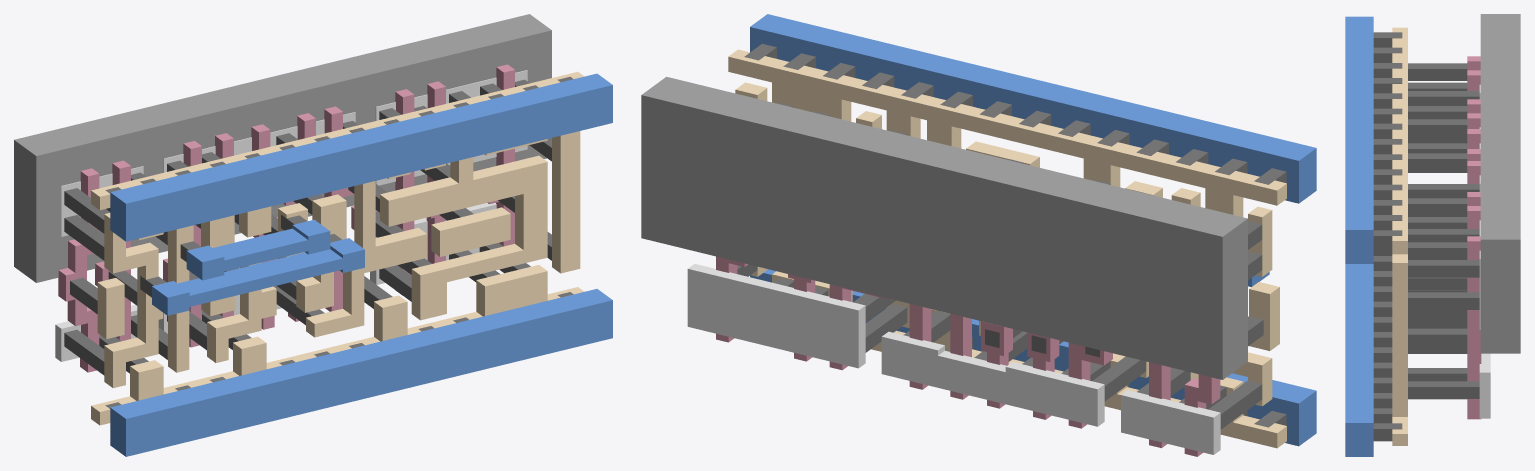
File: sky130_fd_sc_hd__dlrtn_1.gds.gltf
The picture shows the model from 3 angles, left to right: view 1: azimuth 30°, elevation 25°; view 2: azimuth 150°, elevation 25°; view 3: azimuth 270°, elevation 25°; orthographic projection. The views are drawn at different scales.
Parts seen in each view (by area): view 1: sky130_fd_sc_hd__dlrtn_1_met1, sky130_fd_sc_hd__dlrtn_1_li1, sky130_fd_sc_hd__dlrtn_1_nwell, sky130_fd_sc_hd__dlrtn_1_licon, sky130_fd_sc_hd__dlrtn_1_poly, sky130_fd_sc_hd__dlrtn_1_diff, sky130_fd_sc_hd__dlrtn_1_mcon; view 2: sky130_fd_sc_hd__dlrtn_1_nwell, sky130_fd_sc_hd__dlrtn_1_li1, sky130_fd_sc_hd__dlrtn_1_diff, sky130_fd_sc_hd__dlrtn_1_met1, sky130_fd_sc_hd__dlrtn_1_licon, sky130_fd_sc_hd__dlrtn_1_poly, sky130_fd_sc_hd__dlrtn_1_mcon; view 3: sky130_fd_sc_hd__dlrtn_1_licon, sky130_fd_sc_hd__dlrtn_1_nwell, sky130_fd_sc_hd__dlrtn_1_met1, sky130_fd_sc_hd__dlrtn_1_mcon, sky130_fd_sc_hd__dlrtn_1_li1, sky130_fd_sc_hd__dlrtn_1_poly, sky130_fd_sc_hd__dlrtn_1_diff.
Part boxes in pixels (bbox=[...]): sky130_fd_sc_hd__dlrtn_1_met1: bbox=[110, 73, 612, 456]; sky130_fd_sc_hd__dlrtn_1_li1: bbox=[91, 71, 584, 425]; sky130_fd_sc_hd__dlrtn_1_nwell: bbox=[14, 14, 551, 282]; sky130_fd_sc_hd__dlrtn_1_licon: bbox=[64, 79, 551, 375]; sky130_fd_sc_hd__dlrtn_1_poly: bbox=[58, 64, 514, 372]; sky130_fd_sc_hd__dlrtn_1_diff: bbox=[55, 70, 527, 361]; sky130_fd_sc_hd__dlrtn_1_mcon: bbox=[105, 76, 573, 408]; sky130_fd_sc_hd__dlrtn_1_nwell: bbox=[641, 76, 1247, 379]; sky130_fd_sc_hd__dlrtn_1_li1: bbox=[728, 49, 1286, 448]; sky130_fd_sc_hd__dlrtn_1_diff: bbox=[687, 264, 1220, 454]; sky130_fd_sc_hd__dlrtn_1_met1: bbox=[750, 14, 1316, 446]; sky130_fd_sc_hd__dlrtn_1_licon: bbox=[737, 103, 1263, 429]; sky130_fd_sc_hd__dlrtn_1_poly: bbox=[716, 256, 1220, 456]; sky130_fd_sc_hd__dlrtn_1_mcon: bbox=[744, 43, 1286, 427]; sky130_fd_sc_hd__dlrtn_1_licon: bbox=[1408, 63, 1479, 399]; sky130_fd_sc_hd__dlrtn_1_nwell: bbox=[1480, 14, 1520, 353]; sky130_fd_sc_hd__dlrtn_1_met1: bbox=[1345, 16, 1373, 456]; sky130_fd_sc_hd__dlrtn_1_mcon: bbox=[1373, 32, 1402, 441]; sky130_fd_sc_hd__dlrtn_1_li1: bbox=[1392, 27, 1407, 445]; sky130_fd_sc_hd__dlrtn_1_poly: bbox=[1467, 56, 1481, 419]; sky130_fd_sc_hd__dlrtn_1_diff: bbox=[1479, 84, 1490, 418].
Size of the model in its own units: 6.82 by 3.2 by 2.24.
